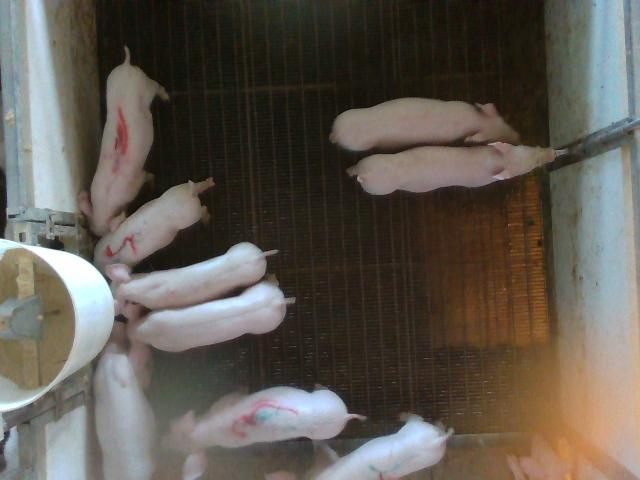pig-1: (78, 46, 169, 236)
pig-3: (165, 386, 365, 478)
pig-5: (94, 178, 214, 271)
